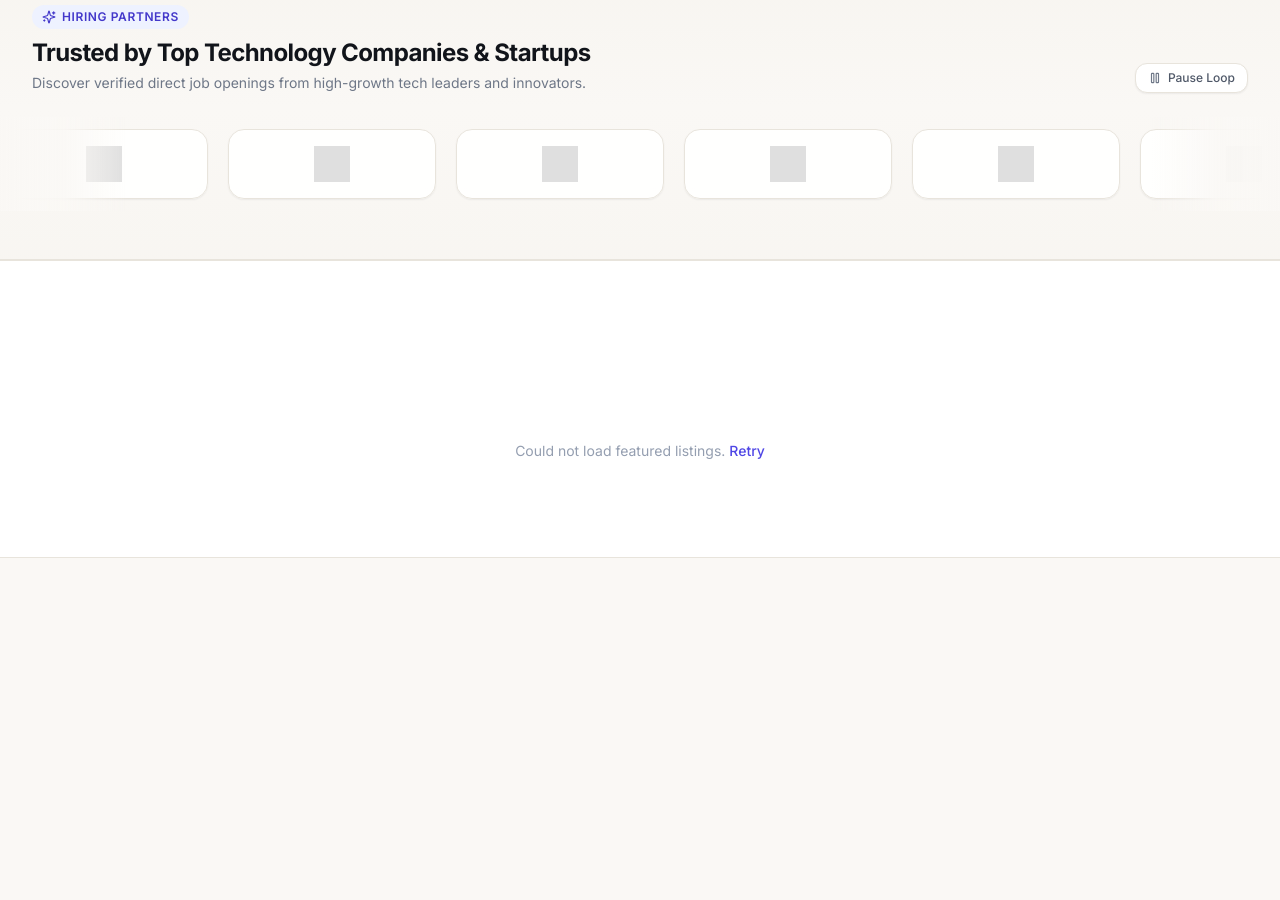
Test case: LandingPage UI Foundation › displays error message and retry button when featured jobs API fails
(page scrolled)
Expected: the text "Could not load featured listings. Retry" is shown, x1=515 y1=440 x2=765 y2=460
Click the button "Retry" at (747, 450), box x1=729 y1=440 x2=765 y2=460
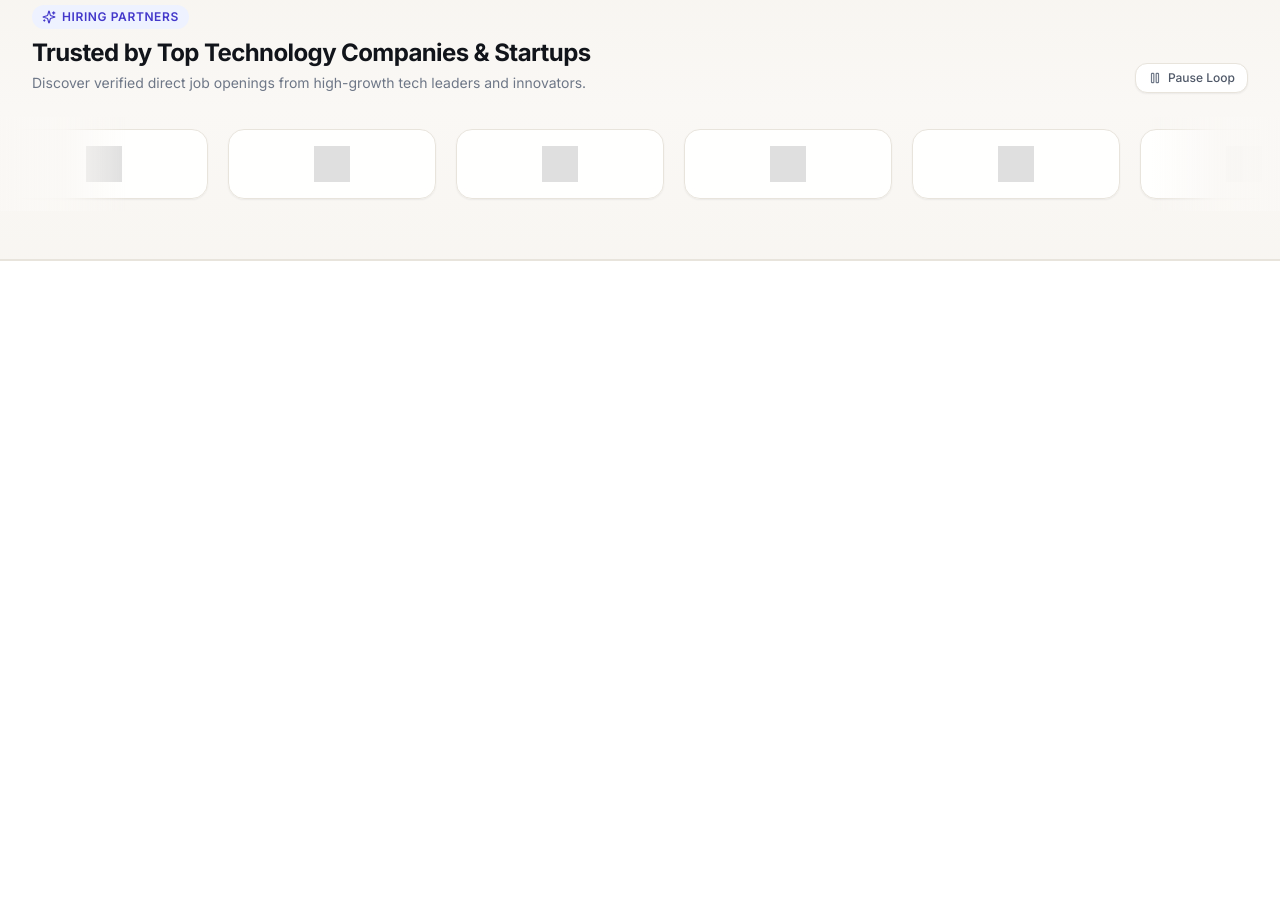
Now the text "Could not load featured listings" is gone
